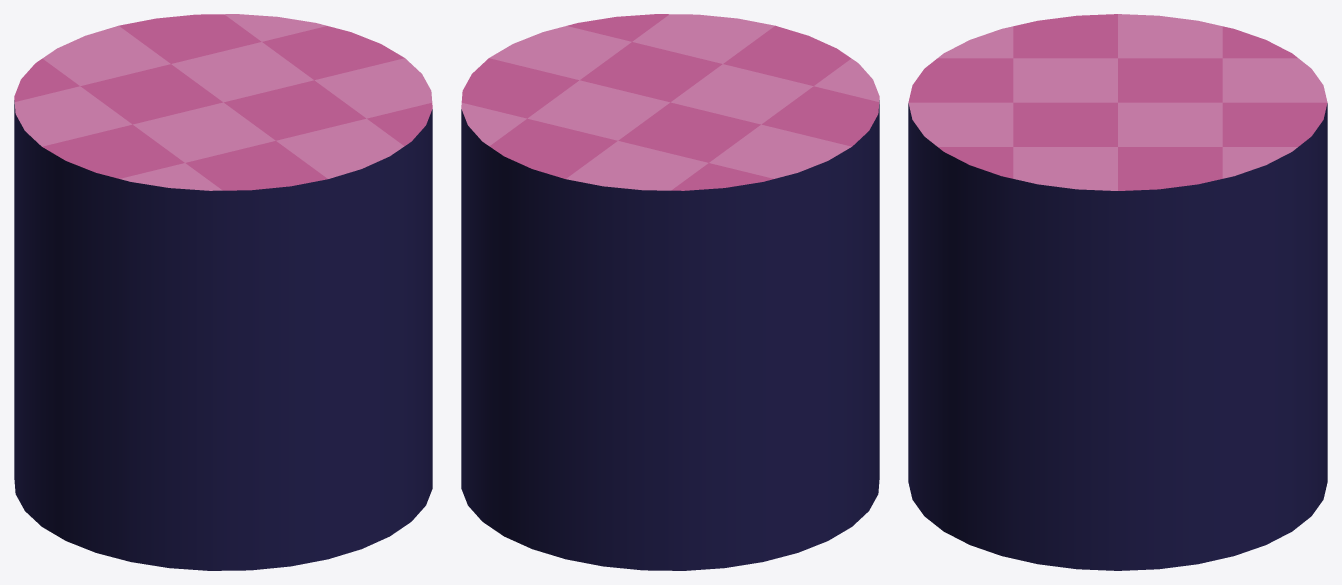
The model's file is cyl_pink.glb.
3 renders of one model, left to right at view 1: azimuth 30°, elevation 25°; view 2: azimuth 150°, elevation 25°; view 3: azimuth 270°, elevation 25°, orthographic.
Visible parts, largest first — view 1: Body; view 2: Body; view 3: Body.
Boxes of the visible parts, x1,y1,x2,y2 form: Body: [14, 14, 432, 570]; Body: [461, 14, 879, 570]; Body: [908, 14, 1327, 570].
Bounding box in the file's own units: 1 × 1 × 1.
